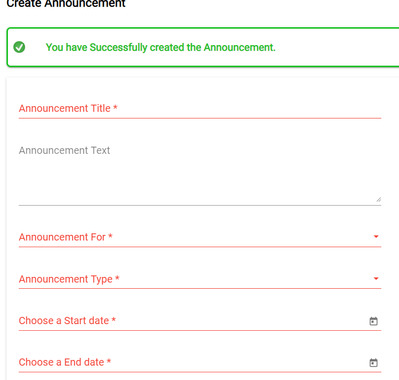error_field: (18, 100, 382, 120), (17, 313, 383, 332), (16, 355, 382, 374), (17, 231, 382, 248), (18, 272, 380, 289)
